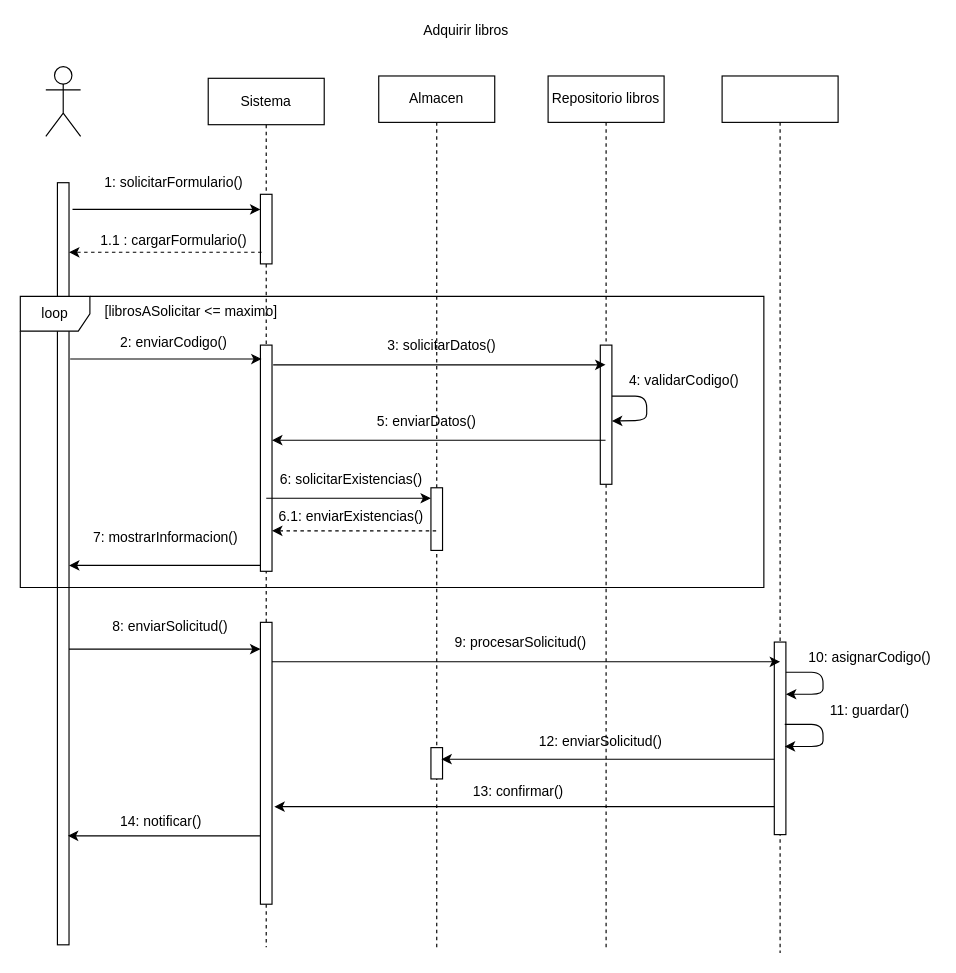
This 956x973 diagram has some shape labels left out. The shapes that lost their labels are listed below. From the top down, each one's centre as x and y in pixels, then its label:
At point 63,101: "Operador".
At point 779,514: "Repositorio solicitudes".
